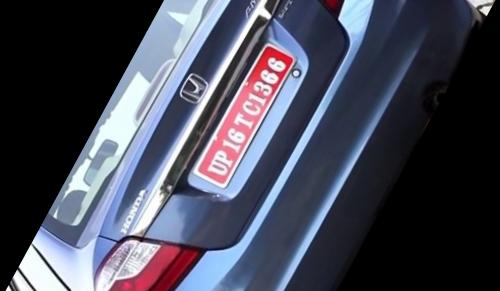plate: (178, 23, 312, 205)
